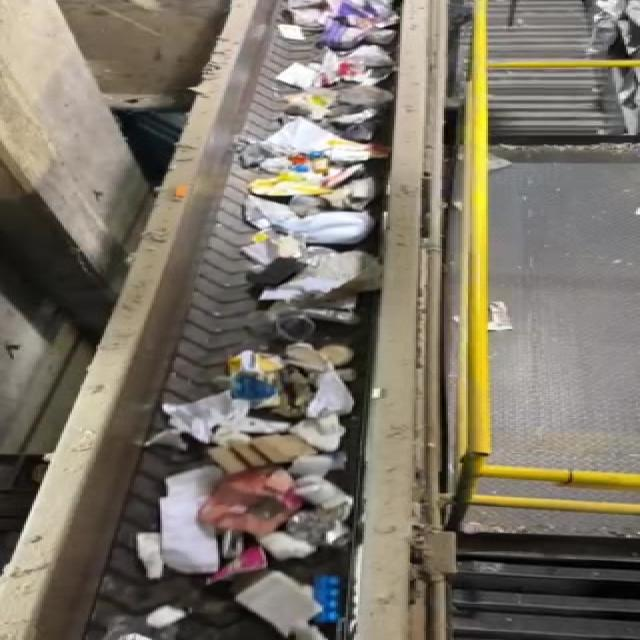paper: (130, 472, 228, 578), (242, 574, 316, 636), (205, 437, 331, 470)
pp: (217, 472, 300, 544), (315, 568, 363, 632)
